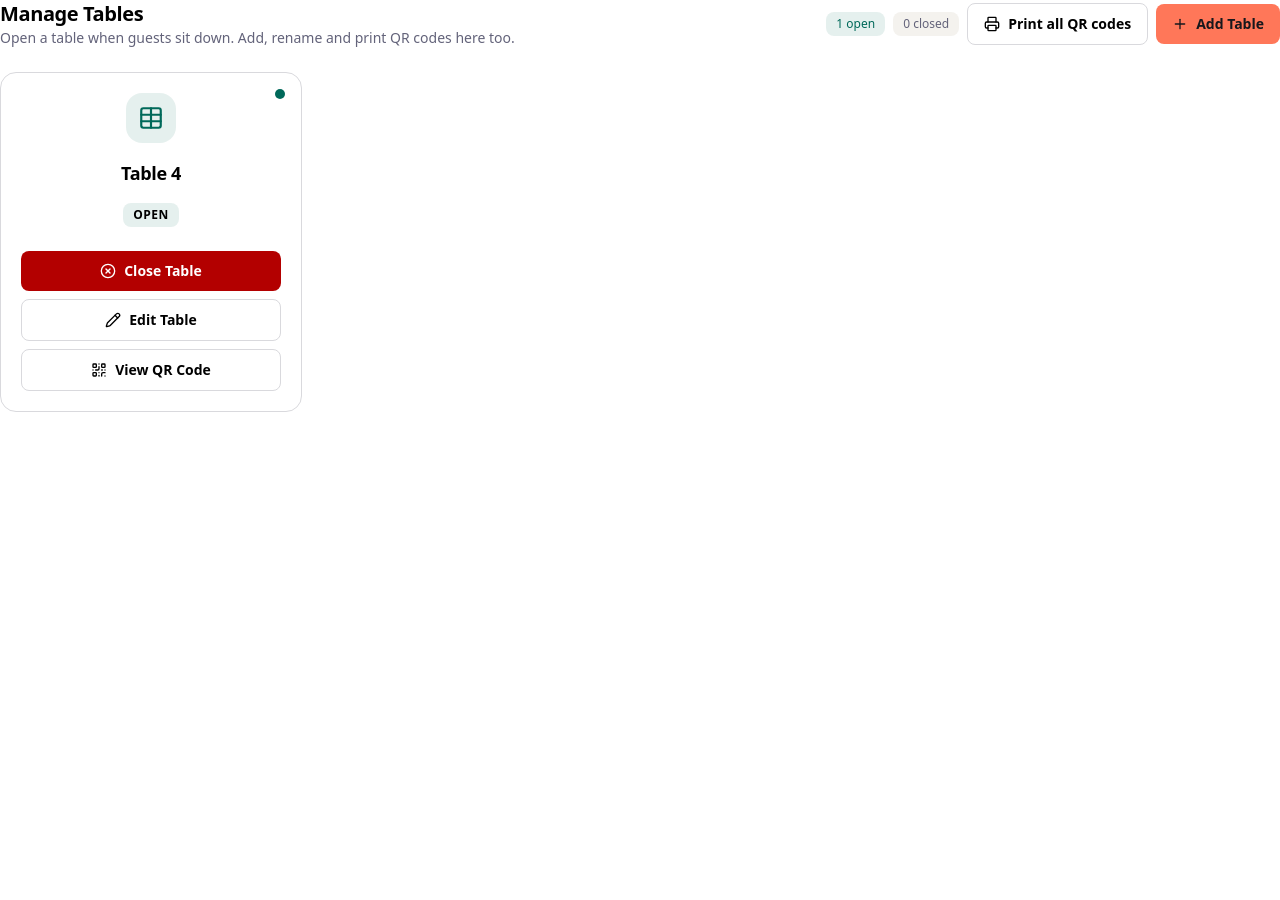
Test: a table with an unpaid bill (VM-15) › delete: the server's reason is shown in the popup, which stays open
Click the button "Edit Table" at [151, 320], box [21, 299, 281, 341]
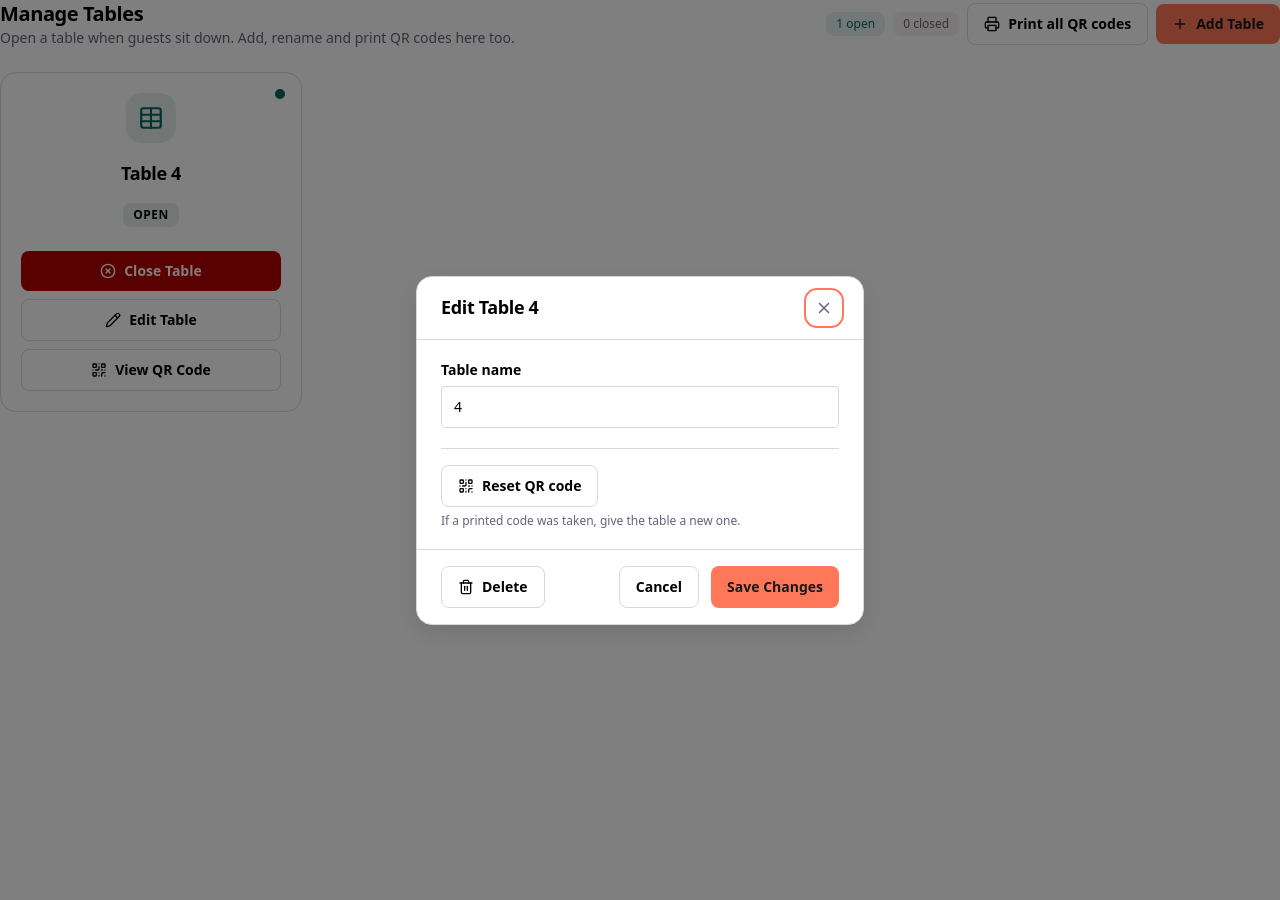
Click the button "Delete" at [493, 586], box [441, 566, 544, 608]
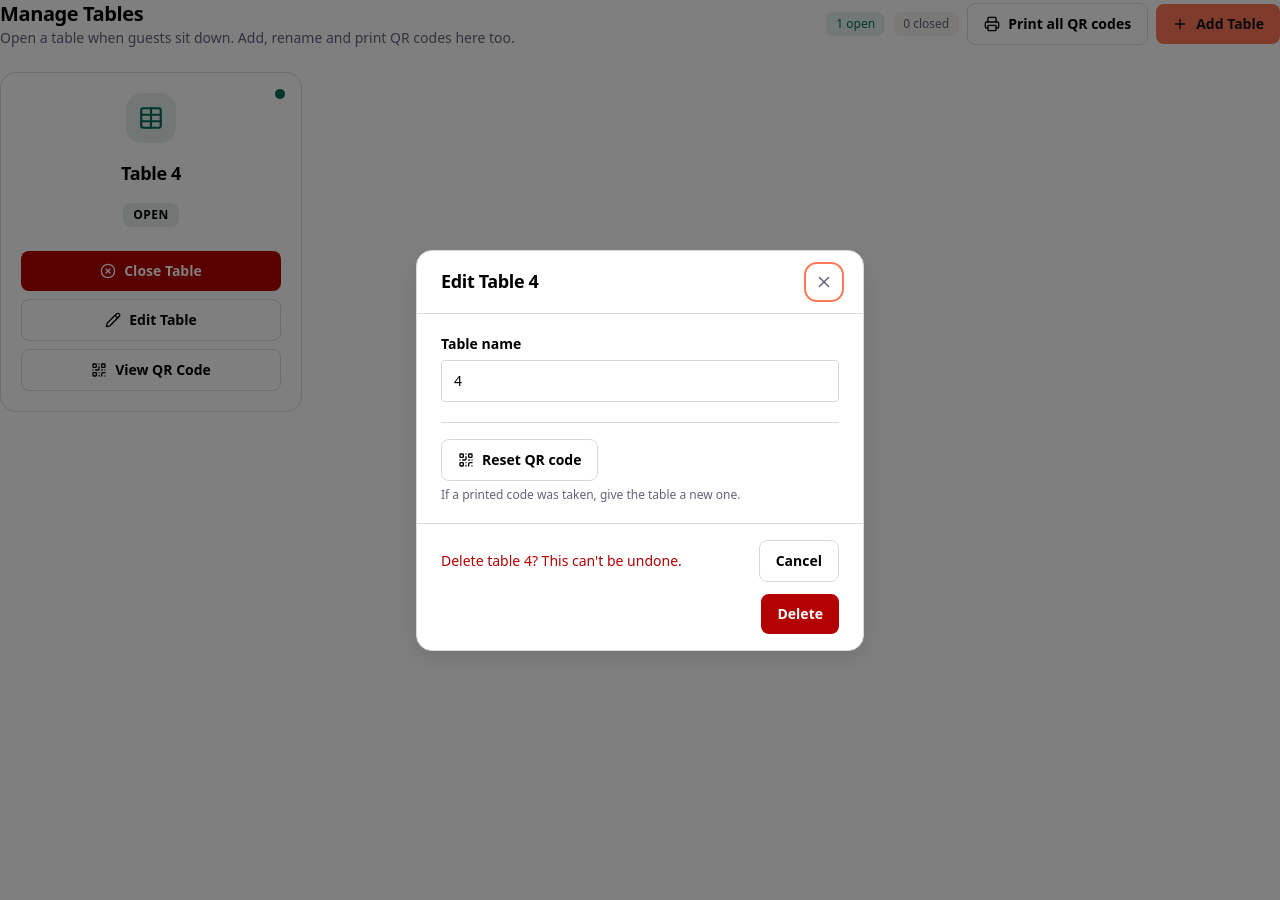
Click the button "Delete" at [800, 614], box [762, 594, 839, 634]
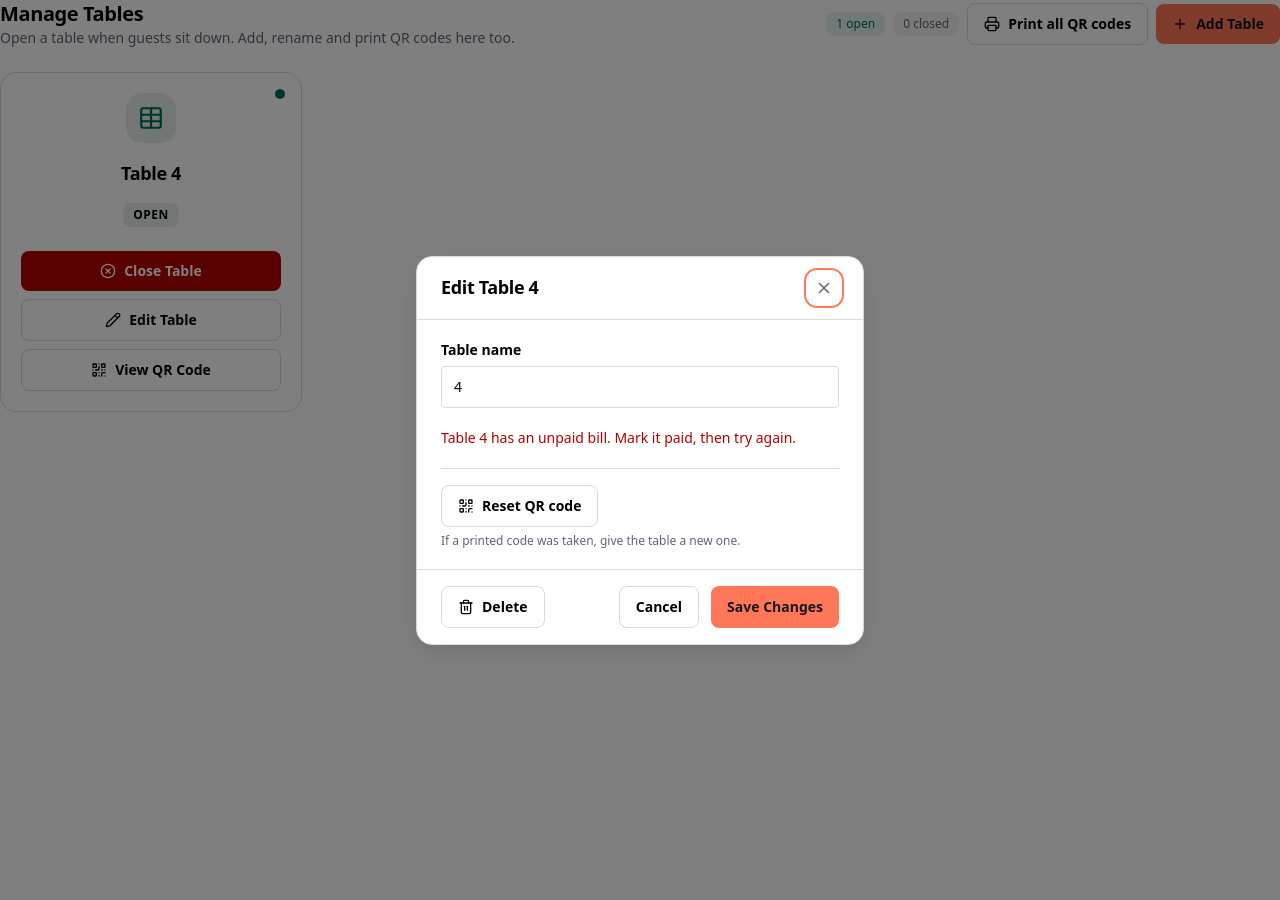
Check: the dialog is shown, box [416, 256, 864, 644]
Check: the message reads "Table 4 has an unpaid bill. Mark it paid, then try again.", box [441, 428, 796, 446]
